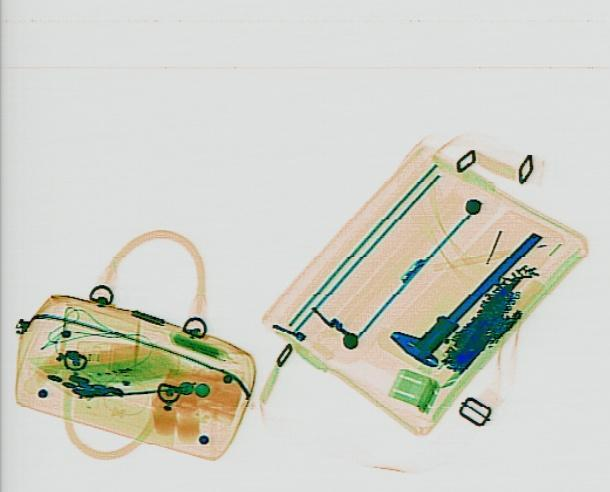plier: (452, 276, 522, 364)
